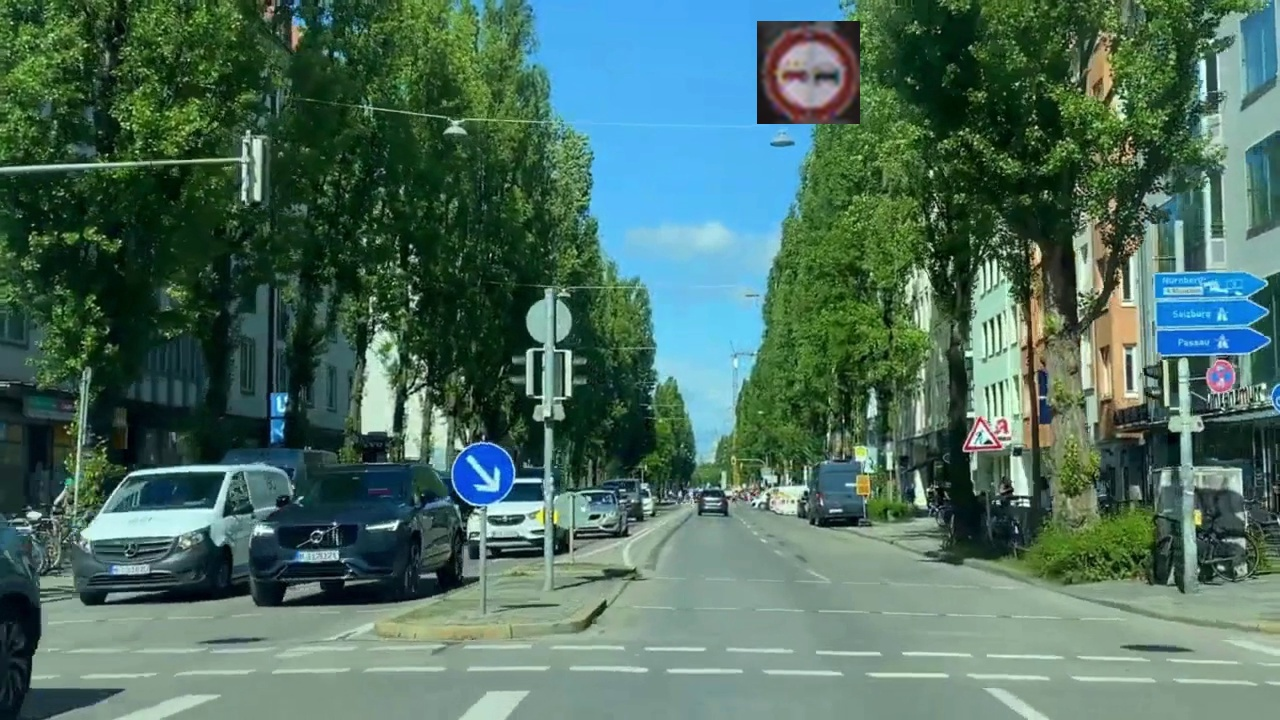No passing: (757, 21, 860, 124)
